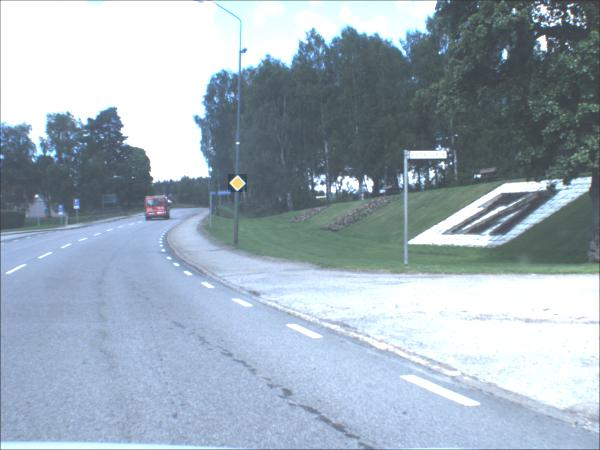PRIORITY_ROAD: (229, 175, 249, 194)
